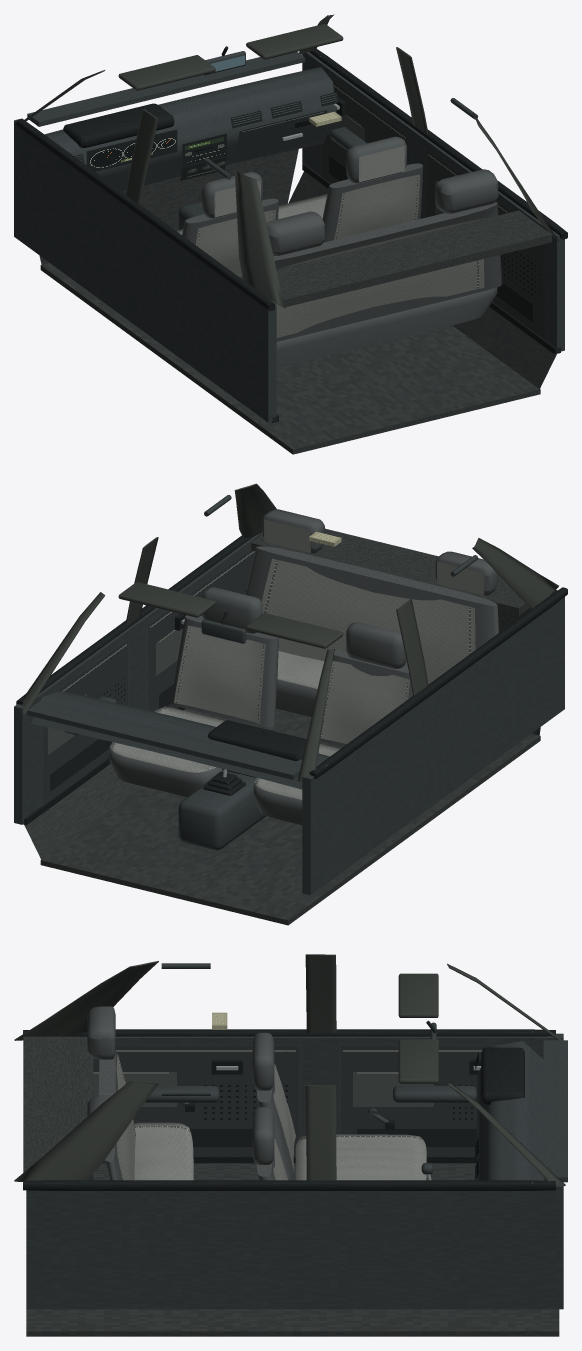
The model's file is sedan_interior.glb.
3 renders of one model, top to bottom at view 1: azimuth 30°, elevation 25°; view 2: azimuth 150°, elevation 25°; view 3: azimuth 270°, elevation 25°, orthographic. The views are drawn at different scales.
Visible parts, largest first — view 1: sedan_interior; view 2: sedan_interior; view 3: sedan_interior.
Part boxes in pixels (x1,y1,x2,y2): sedan_interior: (14,14,567,454); sedan_interior: (14,483,567,925); sedan_interior: (14,954,567,1336).
Size of the model in its own units: 1.65 by 1.27 by 2.49.
1 material, 1 textured.
